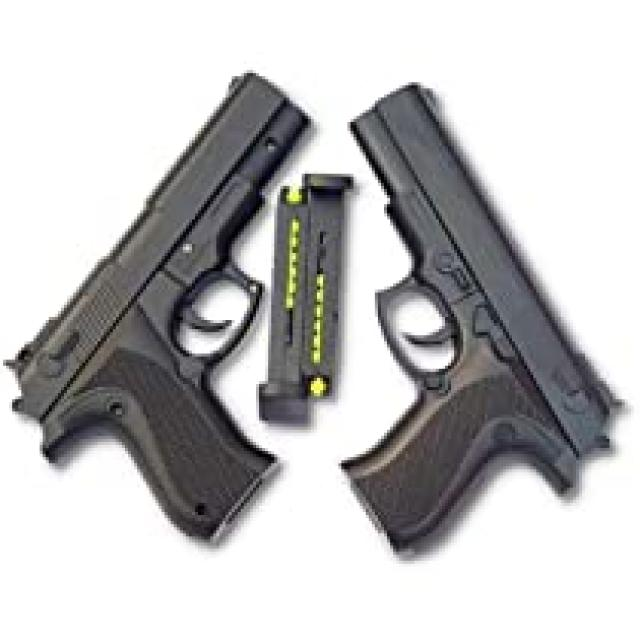HandGun: (3, 73, 311, 552), (341, 82, 616, 561)
